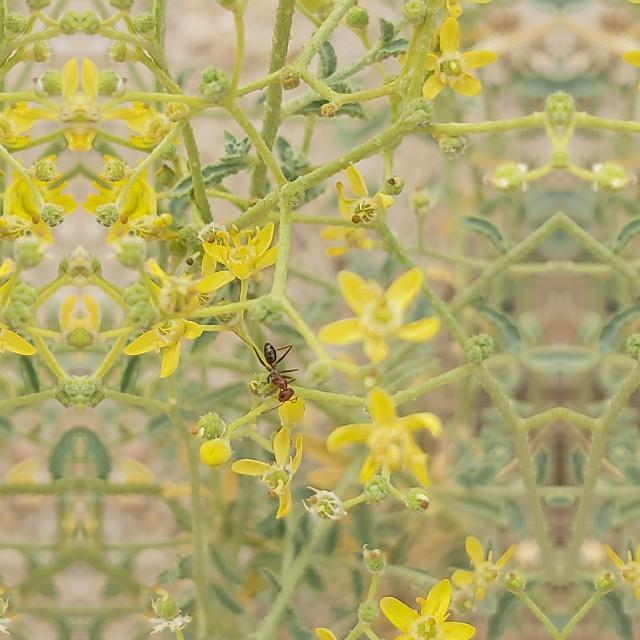Cataglyphis: (252, 331, 304, 415)
